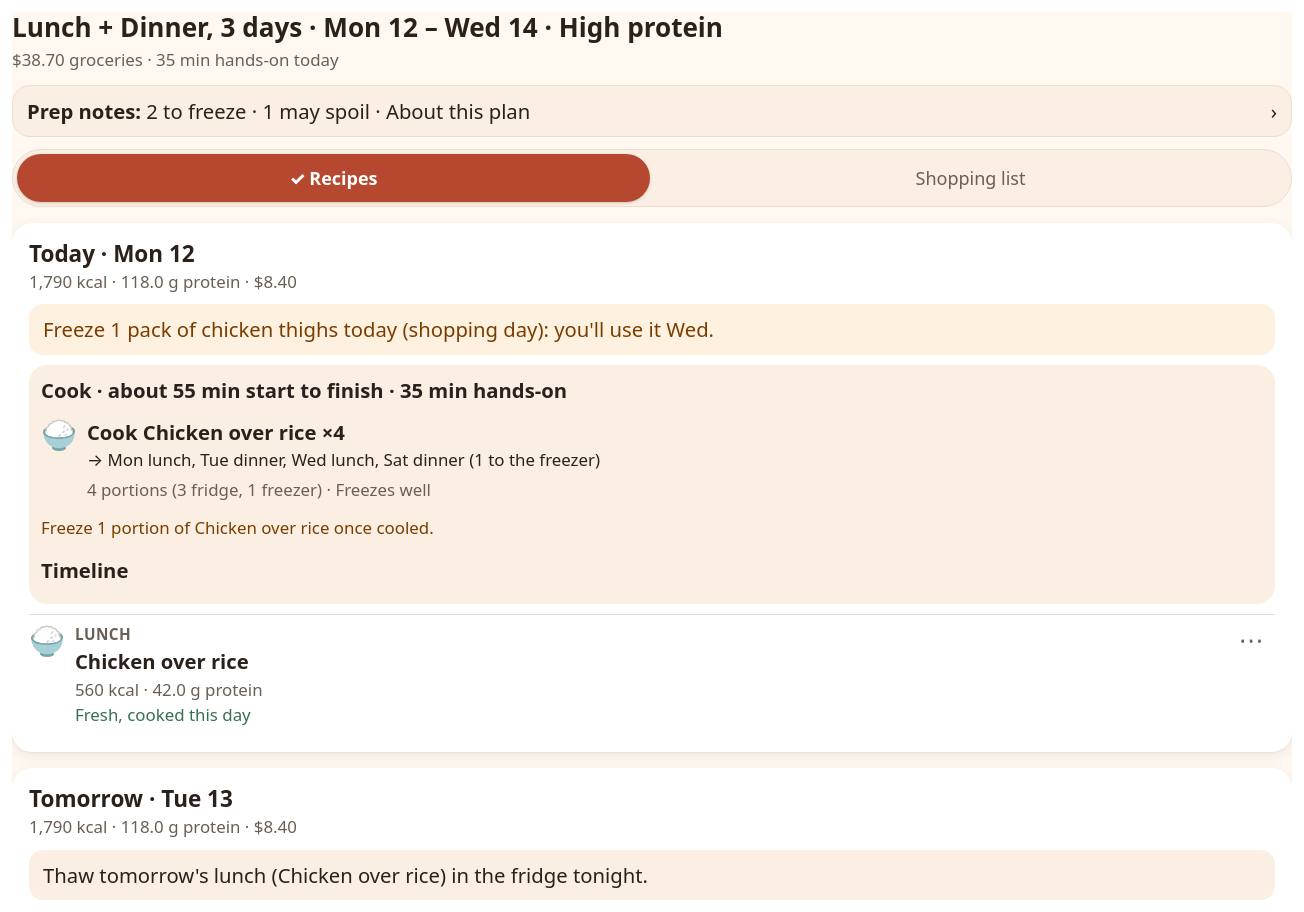
it: C6: the plan view (step 2b.7) › a cook day shows its timeline (in place of the prep order) and starts the cook-day cooking mode
Expected: the text "Cook · about 55 min start to finish · 35 min hands-on" is shown once, [41, 376, 567, 404]
Expected: the text "Cook · about 55 min start to finish · 35 min hands-on" is shown, [41, 376, 567, 404]
Click the heading "Timeline" at (85, 570), box [41, 556, 128, 584]
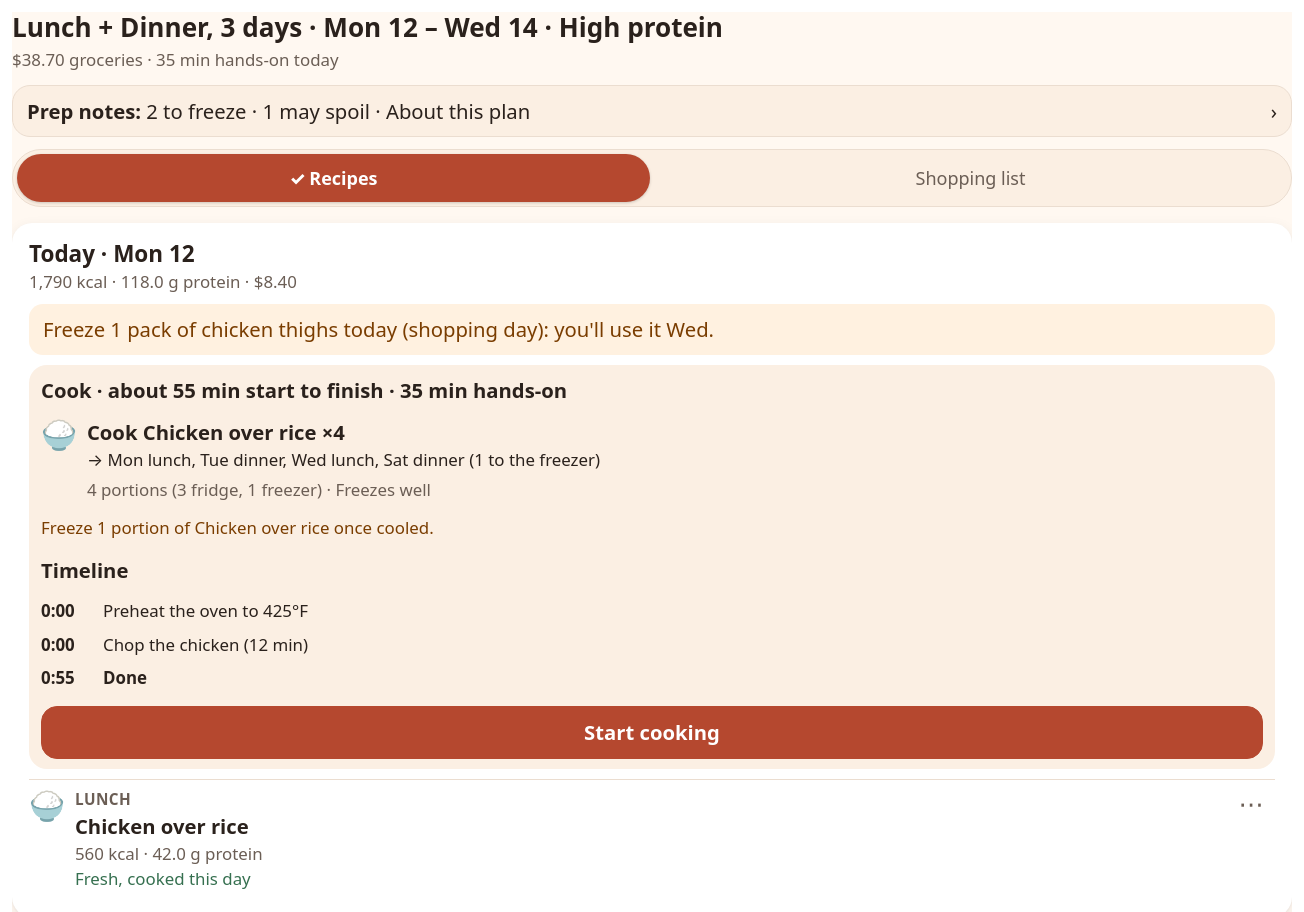
Expected: the text "Chop the chicken (12 min)" is shown, [103, 633, 308, 656]
